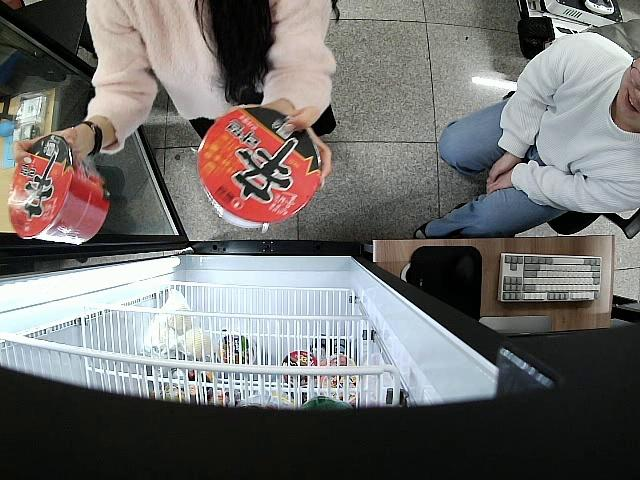00_hand: (270, 96, 333, 194), (13, 123, 94, 172)
01_shinRamen_L: (194, 106, 320, 229), (7, 136, 110, 244)
